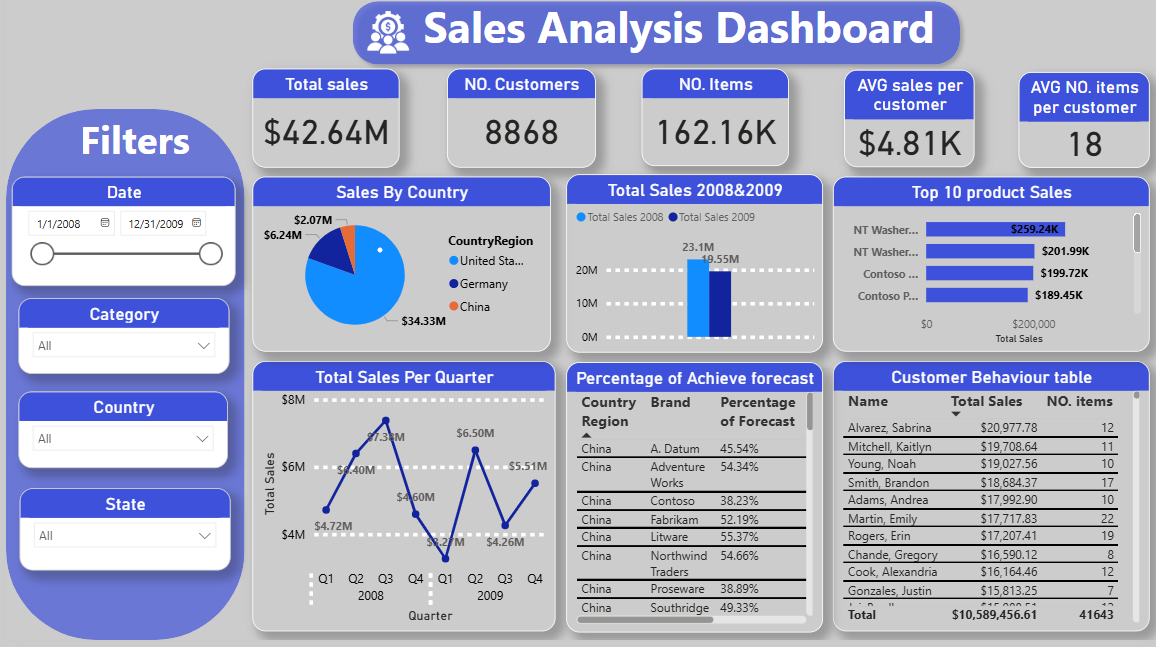

What the dashboard file says about the page in this screenshot:
{"tool":"powerbi","page":{"name":"Main","canvas":[1280,720],"ordinal":0},"visuals":[{"type":"shape","box":[323.7,0,692.9,88.6],"z":1000},{"type":"textbox","box":[415,0,718.3,88.3],"z":2000},{"type":"image","box":[348.2,12.7,67.3,59.1],"z":3000},{"type":"shape","box":[8.3,130,253.3,590],"z":4000},{"type":"textbox","box":[65,128.3,156.7,73.3],"z":5000},{"type":"slicer","title":"Date","fields":{"Values":["dim_date.Date"]},"box":[18.3,205,233.3,115],"z":6000},{"type":"slicer","title":"Category","fields":{"Values":["Products.Category"]},"box":[18.3,340,233.3,85],"z":7000},{"type":"slicer","title":"Country","fields":{"Values":["Customers.CountryRegion"]},"box":[15,445,233.3,85],"z":8000},{"type":"slicer","title":"State","fields":{"Values":["Customers.State"]},"box":[18.3,546.7,233.3,91.7],"z":9000},{"type":"lineChart","title":"Total Sales Per Quarter","fields":{"Y":["_key Measuers.Total Sales"],"Category":["dim_date.New Hierarchy.Year","dim_date.New Hierarchy.Quarter","dim_date.New Hierarchy.Month Name","dim_date.New Hierarchy.Month NO.","dim_date.New Hierarchy.Week NO.","dim_date.New Hierarchy.Day Name","dim_date.New Hierarchy.Day NO."]},"box":[273.3,410,336.7,300],"z":10000},{"type":"card","title":"Total sales","fields":{"Values":["_key Measuers.Total Sales"]},"box":[273.3,85,163.3,110],"z":11000},{"type":"card","title":"NO. Customers","fields":{"Values":["_key Measuers.NO. Customers"]},"box":[490,85,165,110],"z":12000},{"type":"card","title":"NO. Items","fields":{"Values":["_key Measuers.NO. items"]},"box":[706.7,85,163.3,108.3],"z":13000},{"type":"card","title":"AVG sales per customer","fields":{"Values":["_key Measuers.AVG sales per Customer"]},"box":[931.7,86.7,145,108.3],"z":14000},{"type":"card","title":"AVG NO. items per customer","fields":{"Values":["_key Measuers.AVG NO. items per Customer"]},"box":[1125.2,89.2,145.5,107],"z":15000},{"type":"clusteredColumnChart","title":"Total Sales 2008&2009","fields":{"Y":["_key Measuers.Total Sales 2008","_key Measuers.Total Sales 2009"]},"box":[622.7,203,285,198.3],"z":16000},{"type":"tableEx","title":"Customer Behaviour table","fields":{"Values":["Customers.Name","_key Measuers.Total Sales","_key Measuers.NO. items"]},"box":[918.3,410,351.7,300],"z":17000},{"type":"clusteredBarChart","title":"Top 10 product Sales","fields":{"Y":["_key Measuers.Total Sales"],"Category":["Products.Product Name"]},"box":[918.3,205,351.7,195],"z":18000},{"type":"pieChart","title":"Sales By Country","fields":{"Y":["_key Measuers.Total Sales"],"Category":["Customers.CountryRegion"]},"box":[273.3,205,331.7,195],"z":19000},{"type":"tableEx","title":"Percentage of Achieve forecast","fields":{"Values":["Sales & Forecast 2009.CountryRegion","Sales & Forecast 2009.Brand","Sales & Forecast 2009.Percentage of Forecast","Sales & Forecast 2009.Total Sales (Actual)","Sales & Forecast 2009.Forecast"]},"box":[622.7,411.3,285,300],"z":20000}]}

Visuals, with their boxes in screenshot pixels (x1, y1, x2, y2), scaled from the page's 1280x720 canvas onto the 1156x647 screenshot:
shape: (292,0,918,80)
textbox: (375,0,1024,79)
image: (314,11,375,65)
shape: (7,117,236,646)
textbox: (59,115,200,181)
"Date" slicer: (17,184,227,288)
"Category" slicer: (17,306,227,382)
"Country" slicer: (14,400,224,476)
"State" slicer: (17,491,227,574)
"Total Sales Per Quarter" lineChart: (247,368,551,638)
"Total sales" card: (247,76,394,175)
"NO. Customers" card: (443,76,592,175)
"NO. Items" card: (638,76,786,174)
"AVG sales per customer" card: (841,78,972,175)
"AVG NO. items per customer" card: (1016,80,1148,176)
"Total Sales 2008&2009" clusteredColumnChart: (562,182,820,361)
"Customer Behaviour table" tableEx: (829,368,1147,638)
"Top 10 product Sales" clusteredBarChart: (829,184,1147,359)
"Sales By Country" pieChart: (247,184,546,359)
"Percentage of Achieve forecast" tableEx: (562,370,820,639)
